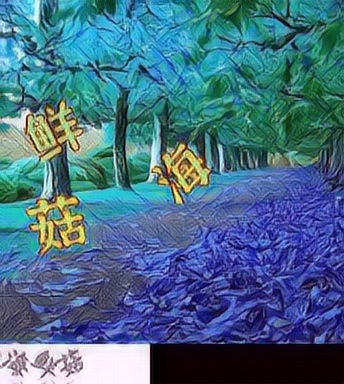B9BD: (24, 189, 88, 256)
BAA3: (148, 142, 212, 209)
CFCA: (22, 98, 86, 165)
